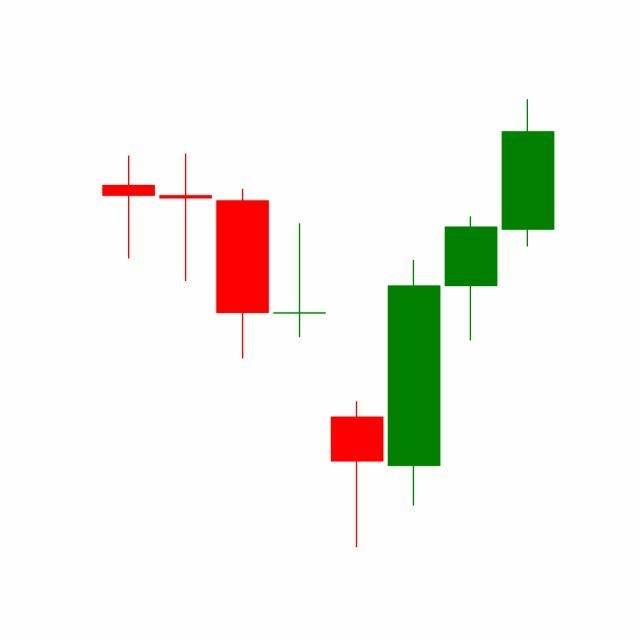Three Outside Up-Down: (328, 212, 500, 548)
